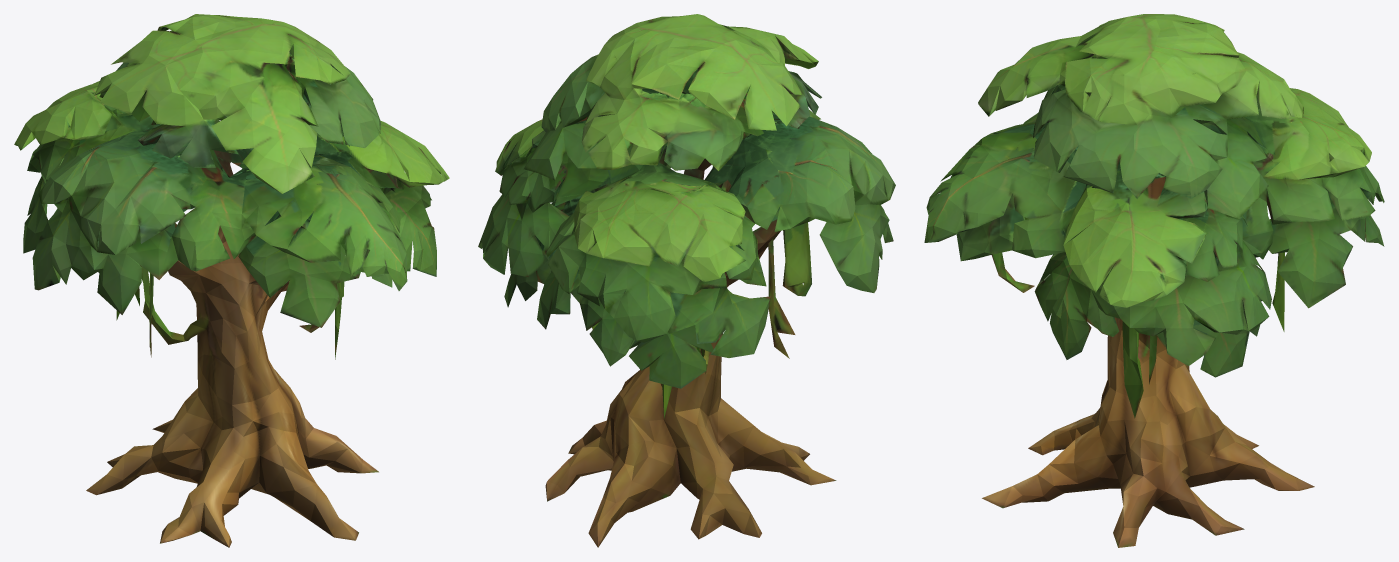
The model's file is Whimsical_Canopy_0612173009_texture.fbx.
The picture shows the model from 3 angles, left to right: view 1: azimuth 30°, elevation 25°; view 2: azimuth 150°, elevation 25°; view 3: azimuth 270°, elevation 25°; orthographic projection.
Parts seen in each view (by area): view 1: temp; view 2: temp; view 3: temp.
Boxes of the visible parts, x1,y1,x2,y2 form: temp: [14, 14, 449, 547]; temp: [478, 14, 895, 547]; temp: [924, 14, 1384, 547].
Bounding box in the file's own units: 179 × 200 × 185.
Materials: 1 (1 with a texture image).
